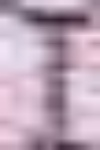I: (0, 0, 99, 149)
